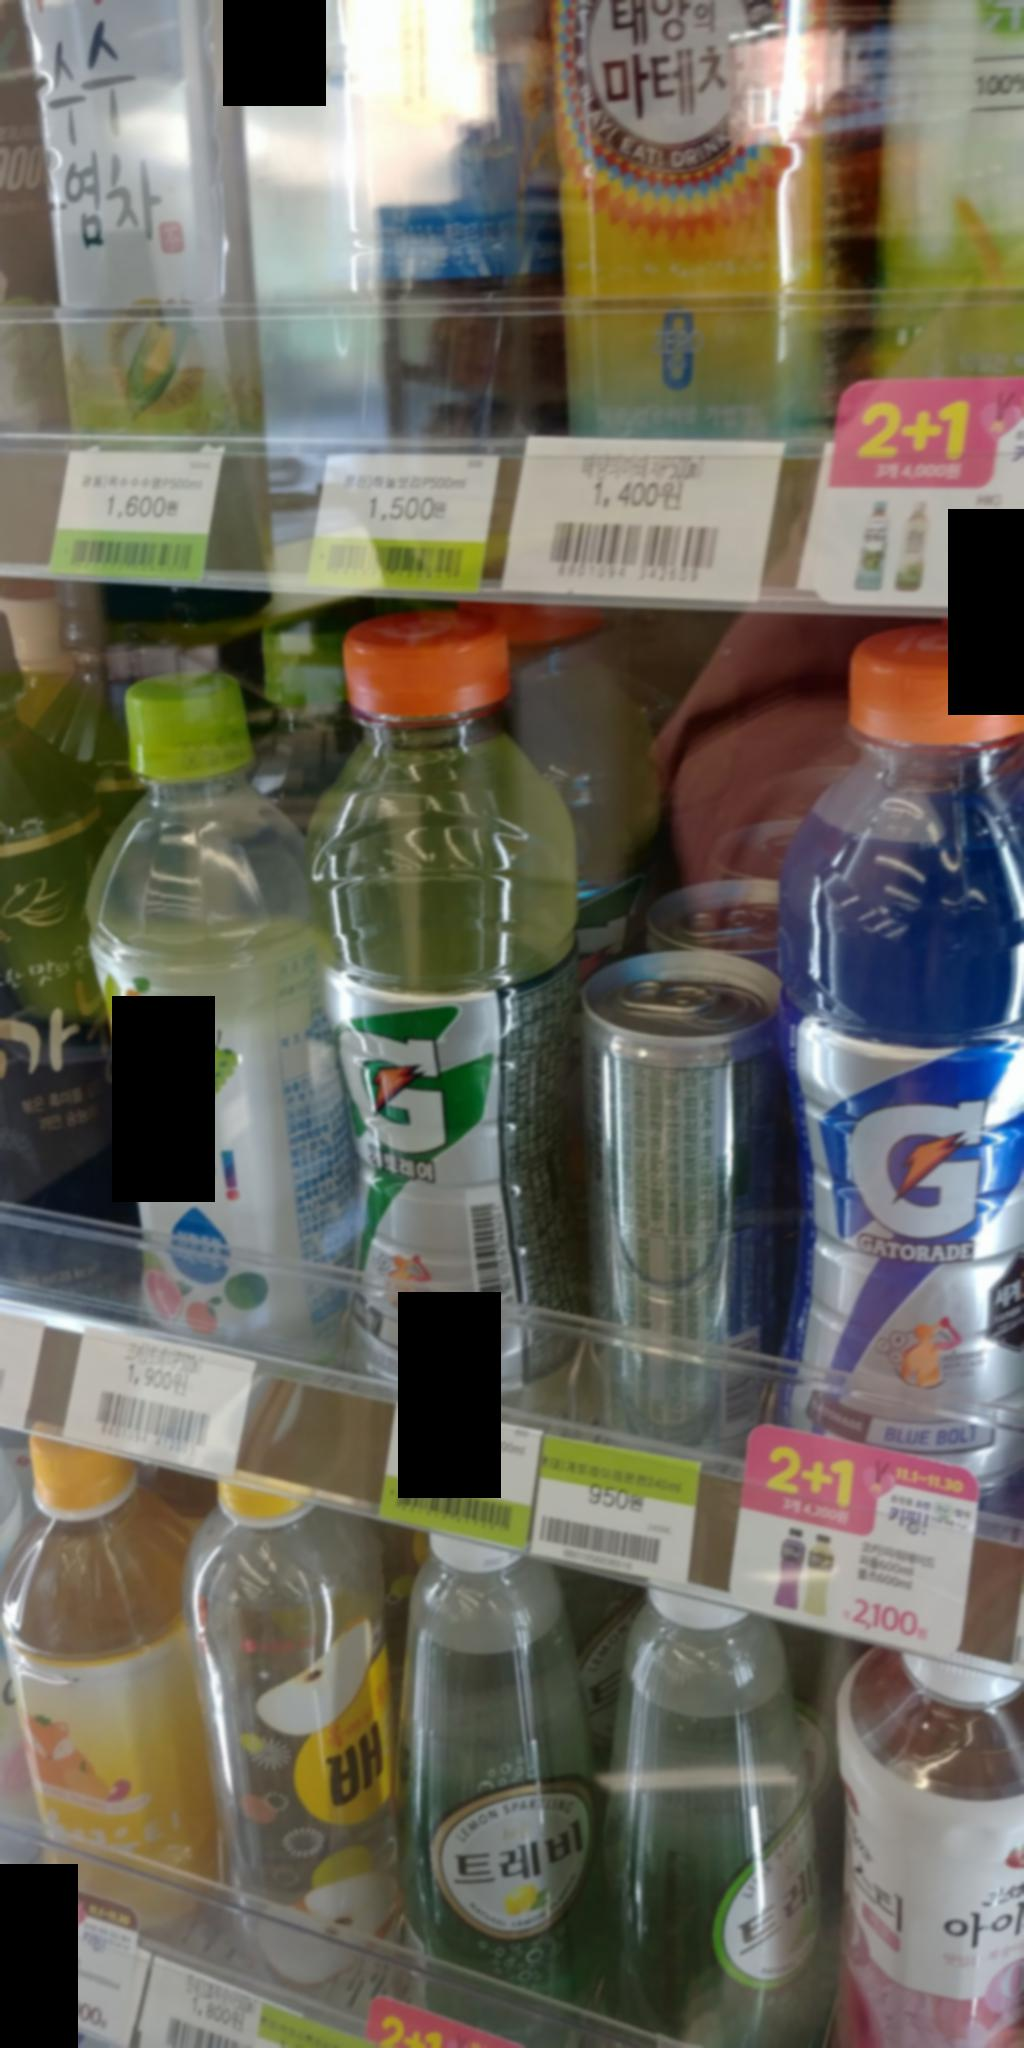gatorade_lemon: (316, 588, 601, 1404)
toreta: (85, 677, 357, 1371)
